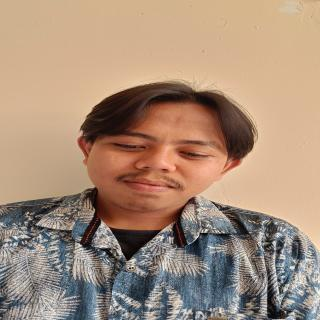Sedih: (85, 97, 240, 220)
